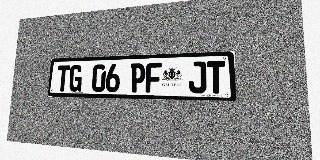0: (91, 64, 106, 92)
6: (105, 64, 120, 92)
F: (145, 63, 162, 93)
G: (69, 65, 83, 92)
J: (189, 61, 206, 93)
P: (130, 63, 146, 93)
T: (207, 61, 226, 94), (56, 65, 70, 92)
